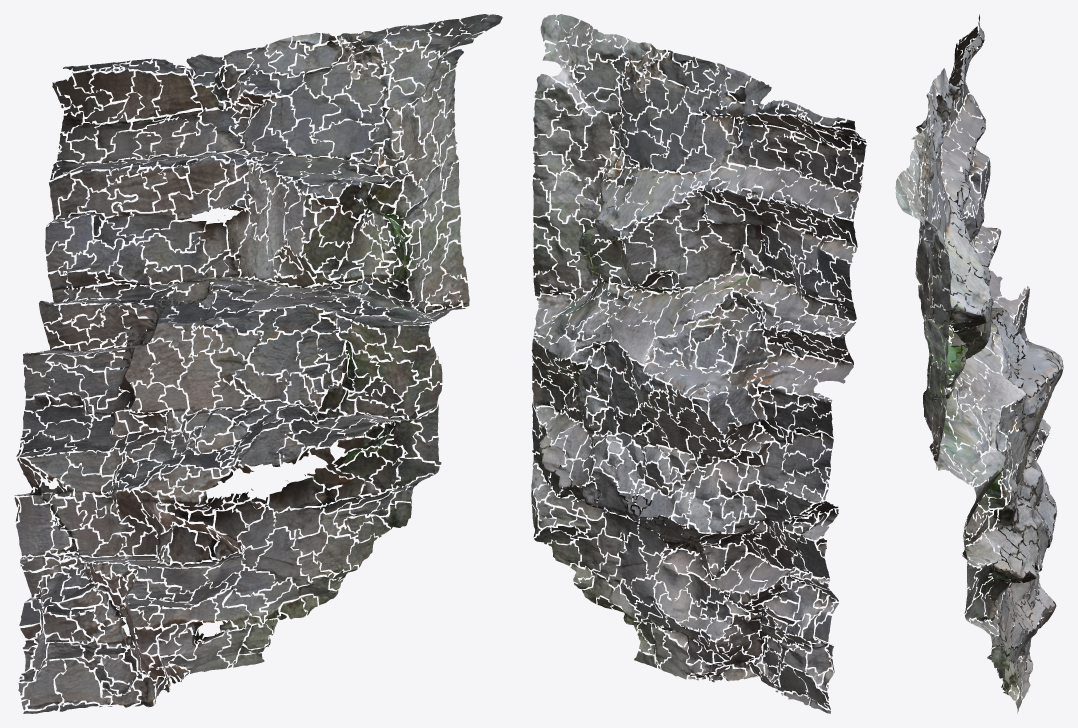
The model's file is gst9.glb.
3 renders of one model, left to right at view 1: azimuth 30°, elevation 25°; view 2: azimuth 150°, elevation 25°; view 3: azimuth 270°, elevation 25°, orthographic. The views are drawn at different scales.
Size of the model in its own units: 184 by 288 by 73.16.
Materials: 1 (1 with a texture image).
